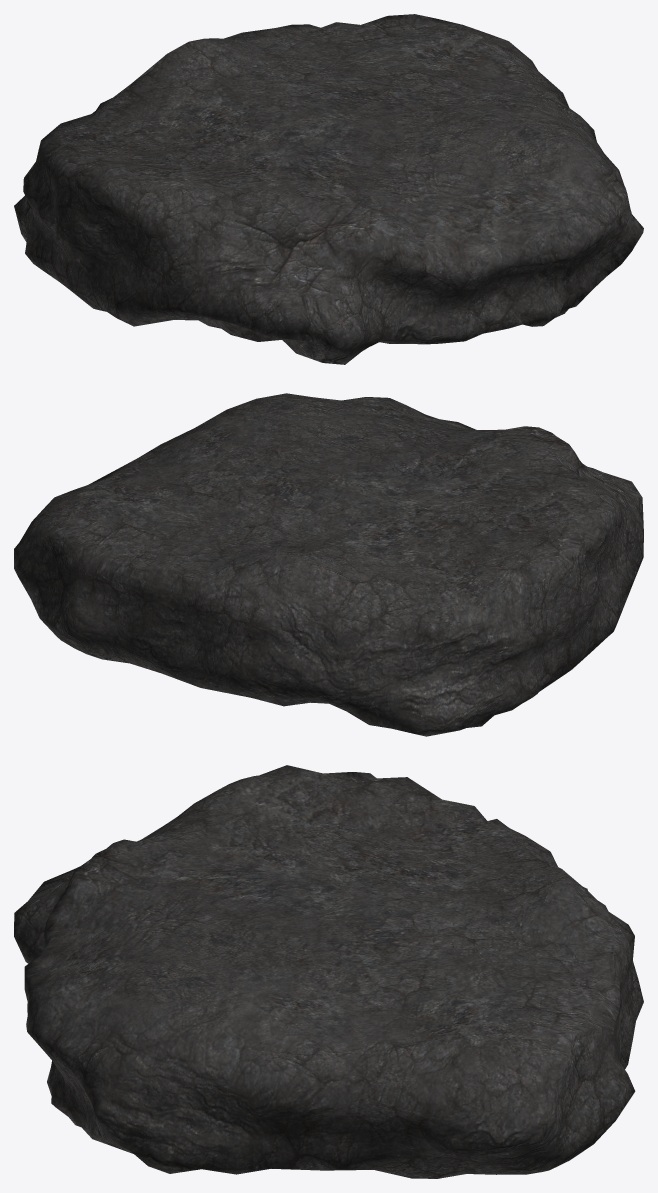
The model's file is Rock07-Base.obj.
The picture shows the model from 3 angles, top to bottom: view 1: azimuth 30°, elevation 25°; view 2: azimuth 150°, elevation 25°; view 3: azimuth 270°, elevation 25°; orthographic projection. The views are drawn at different scales.
Parts seen in each view (by area): view 1: Rock07; view 2: Rock07; view 3: Rock07.
Boxes of the visible parts, left/top/right/bottom form: Rock07: left=14, top=14, right=643, bottom=364; Rock07: left=14, top=393, right=643, bottom=736; Rock07: left=14, top=765, right=643, bottom=1178.
Size of the model in its own units: 83.27 by 25.33 by 78.54.
